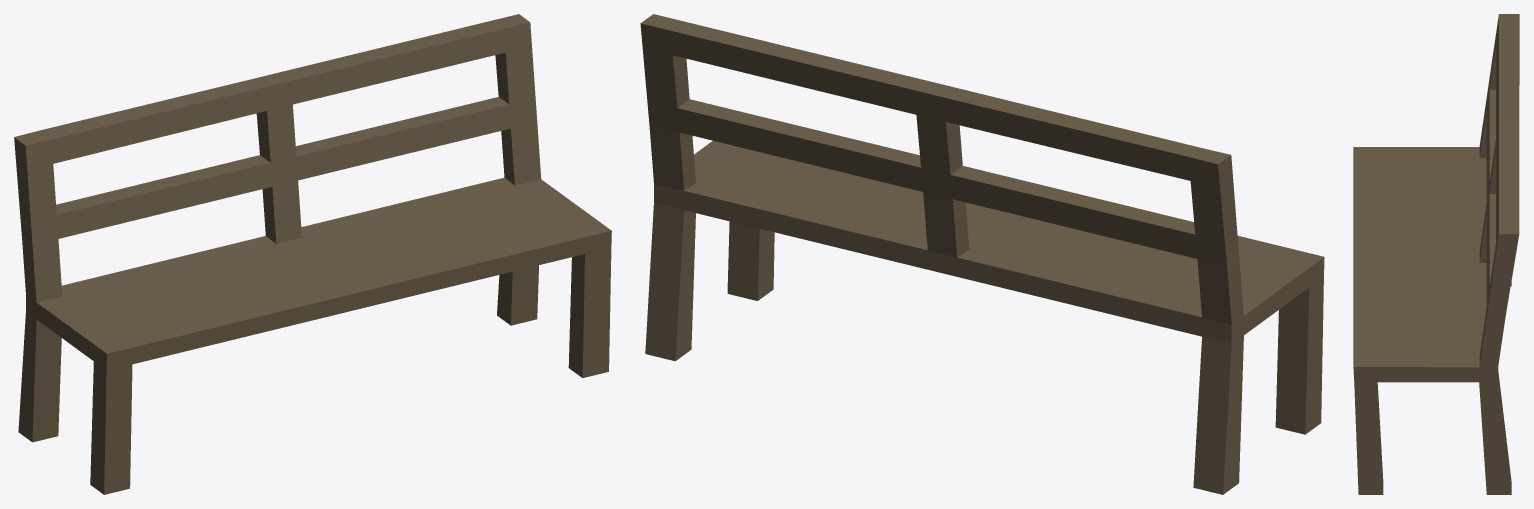
The model's file is Bench.fbx.
The picture shows the model from 3 angles, left to right: view 1: azimuth 30°, elevation 25°; view 2: azimuth 150°, elevation 25°; view 3: azimuth 270°, elevation 25°; orthographic projection. The views are drawn at different scales.
Visible parts, largest first — view 1: Bench; view 2: Bench; view 3: Bench.
Boxes of the visible parts, bbox=[...] form: Bench: bbox=[14, 14, 611, 494]; Bench: bbox=[640, 14, 1324, 494]; Bench: bbox=[1353, 14, 1519, 494].
Bounding box in the file's own units: 168 × 92.74 × 53.48.
